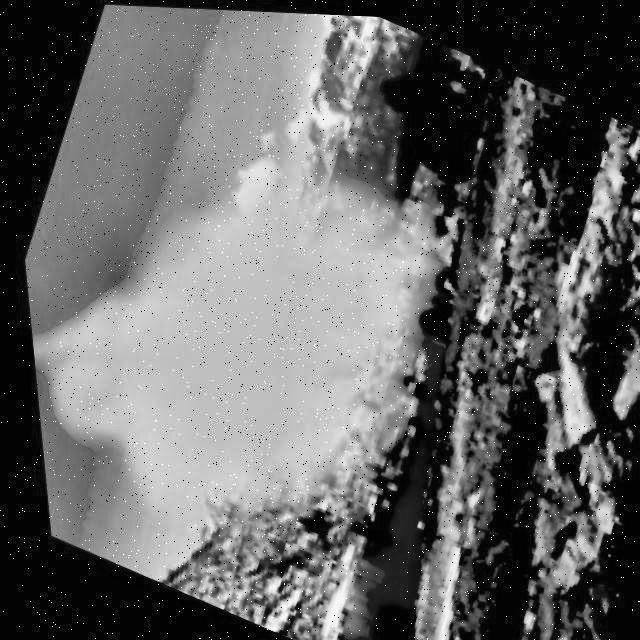Smoke: (20, 24, 495, 620)
